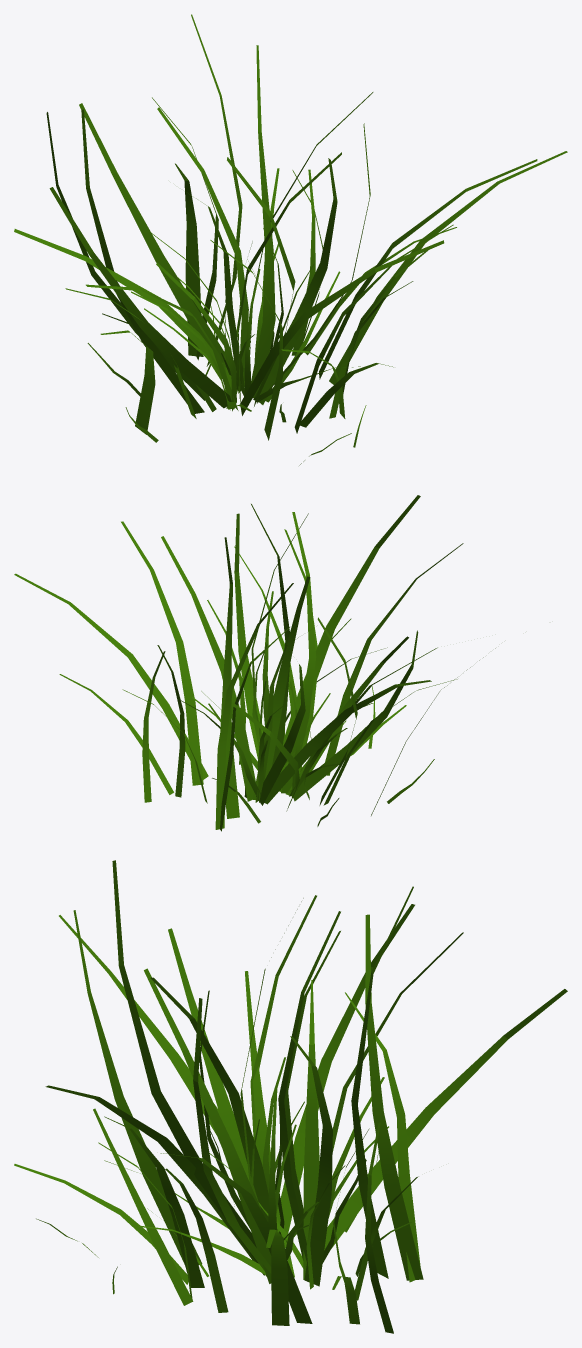
The model's file is grass 1.fbx.
3 views of the same model, one above another, from view 1: azimuth 30°, elevation 25°; view 2: azimuth 150°, elevation 25°; view 3: azimuth 270°, elevation 25° (orthographic). The views are drawn at different scales.
Parts seen in each view (by area): view 1: allGrass_001:group3grassClump_001group1pPlane139; view 2: allGrass_001:group3grassClump_001group1pPlane139; view 3: allGrass_001:group3grassClump_001group1pPlane139.
Boxes of the visible parts, bbox=[...] form: allGrass_001:group3grassClump_001group1pPlane139: bbox=[14, 14, 567, 465]; allGrass_001:group3grassClump_001group1pPlane139: bbox=[14, 495, 495, 831]; allGrass_001:group3grassClump_001group1pPlane139: bbox=[14, 860, 567, 1333].
Bounding box in the file's own units: 13.82 × 8.32 × 10.46.
